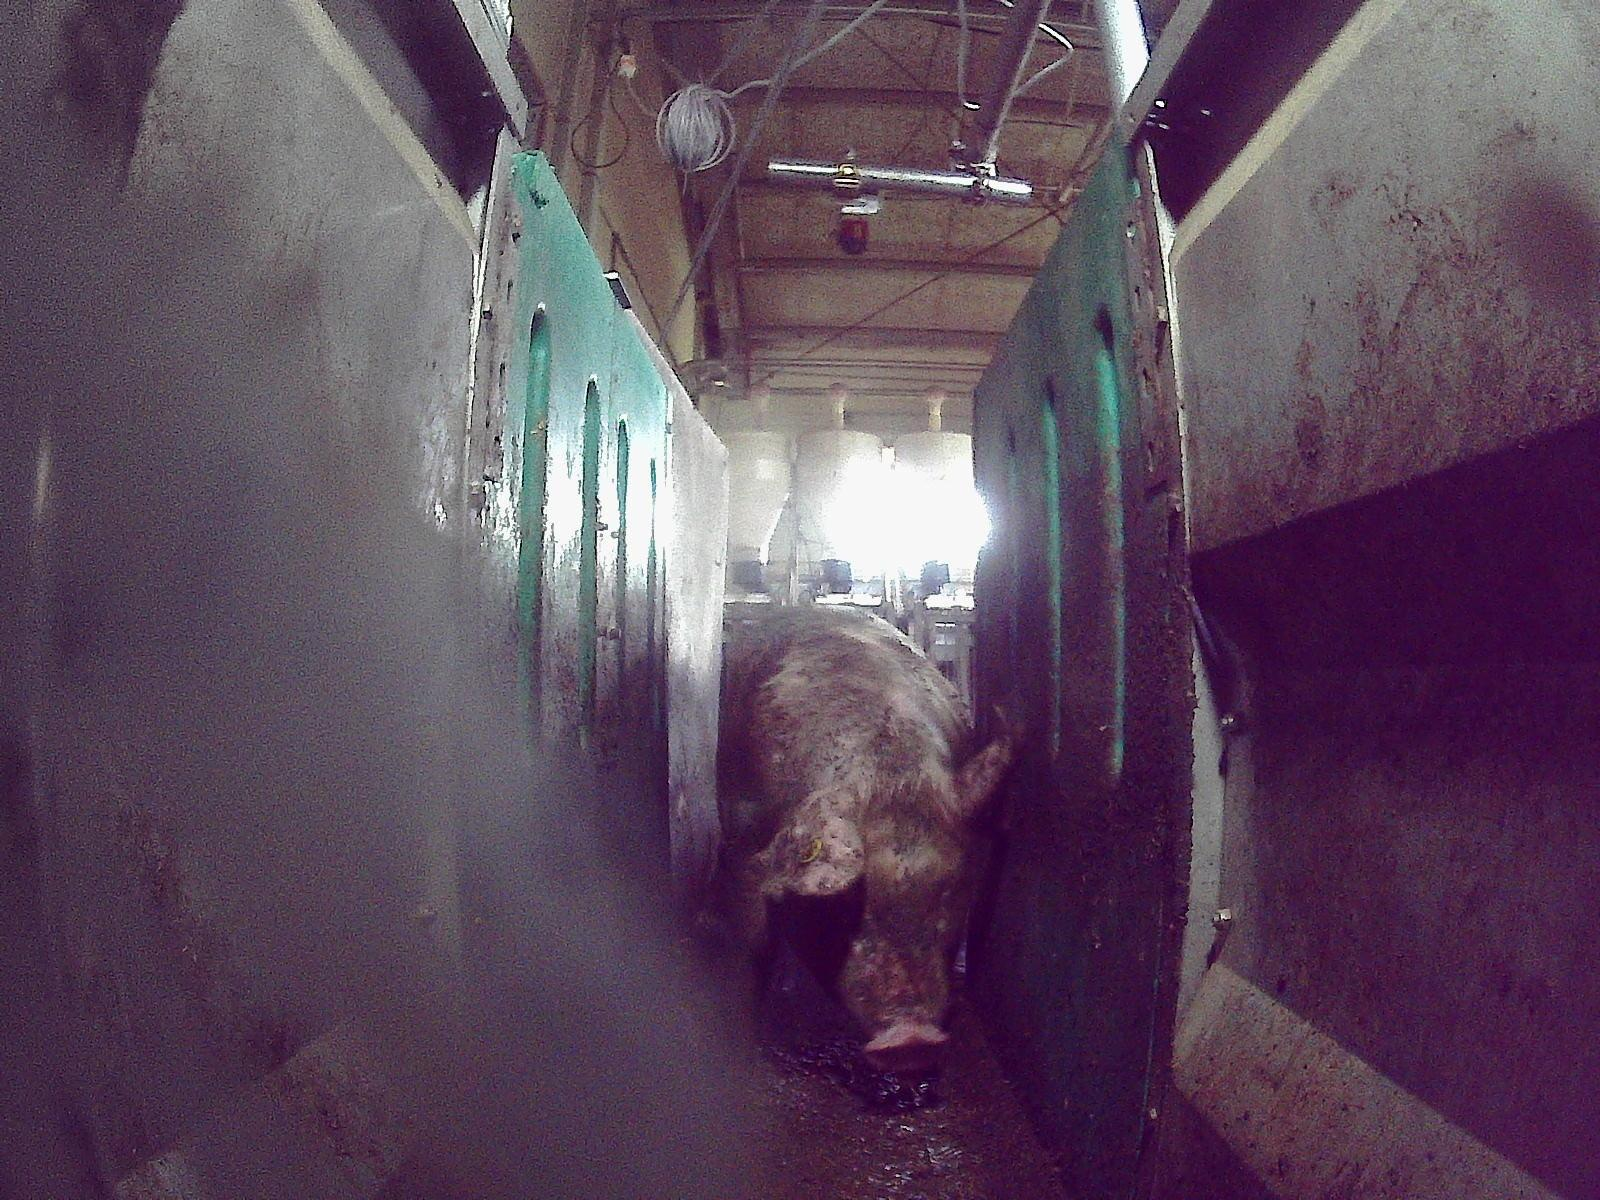Face: (785, 774, 994, 1070)
